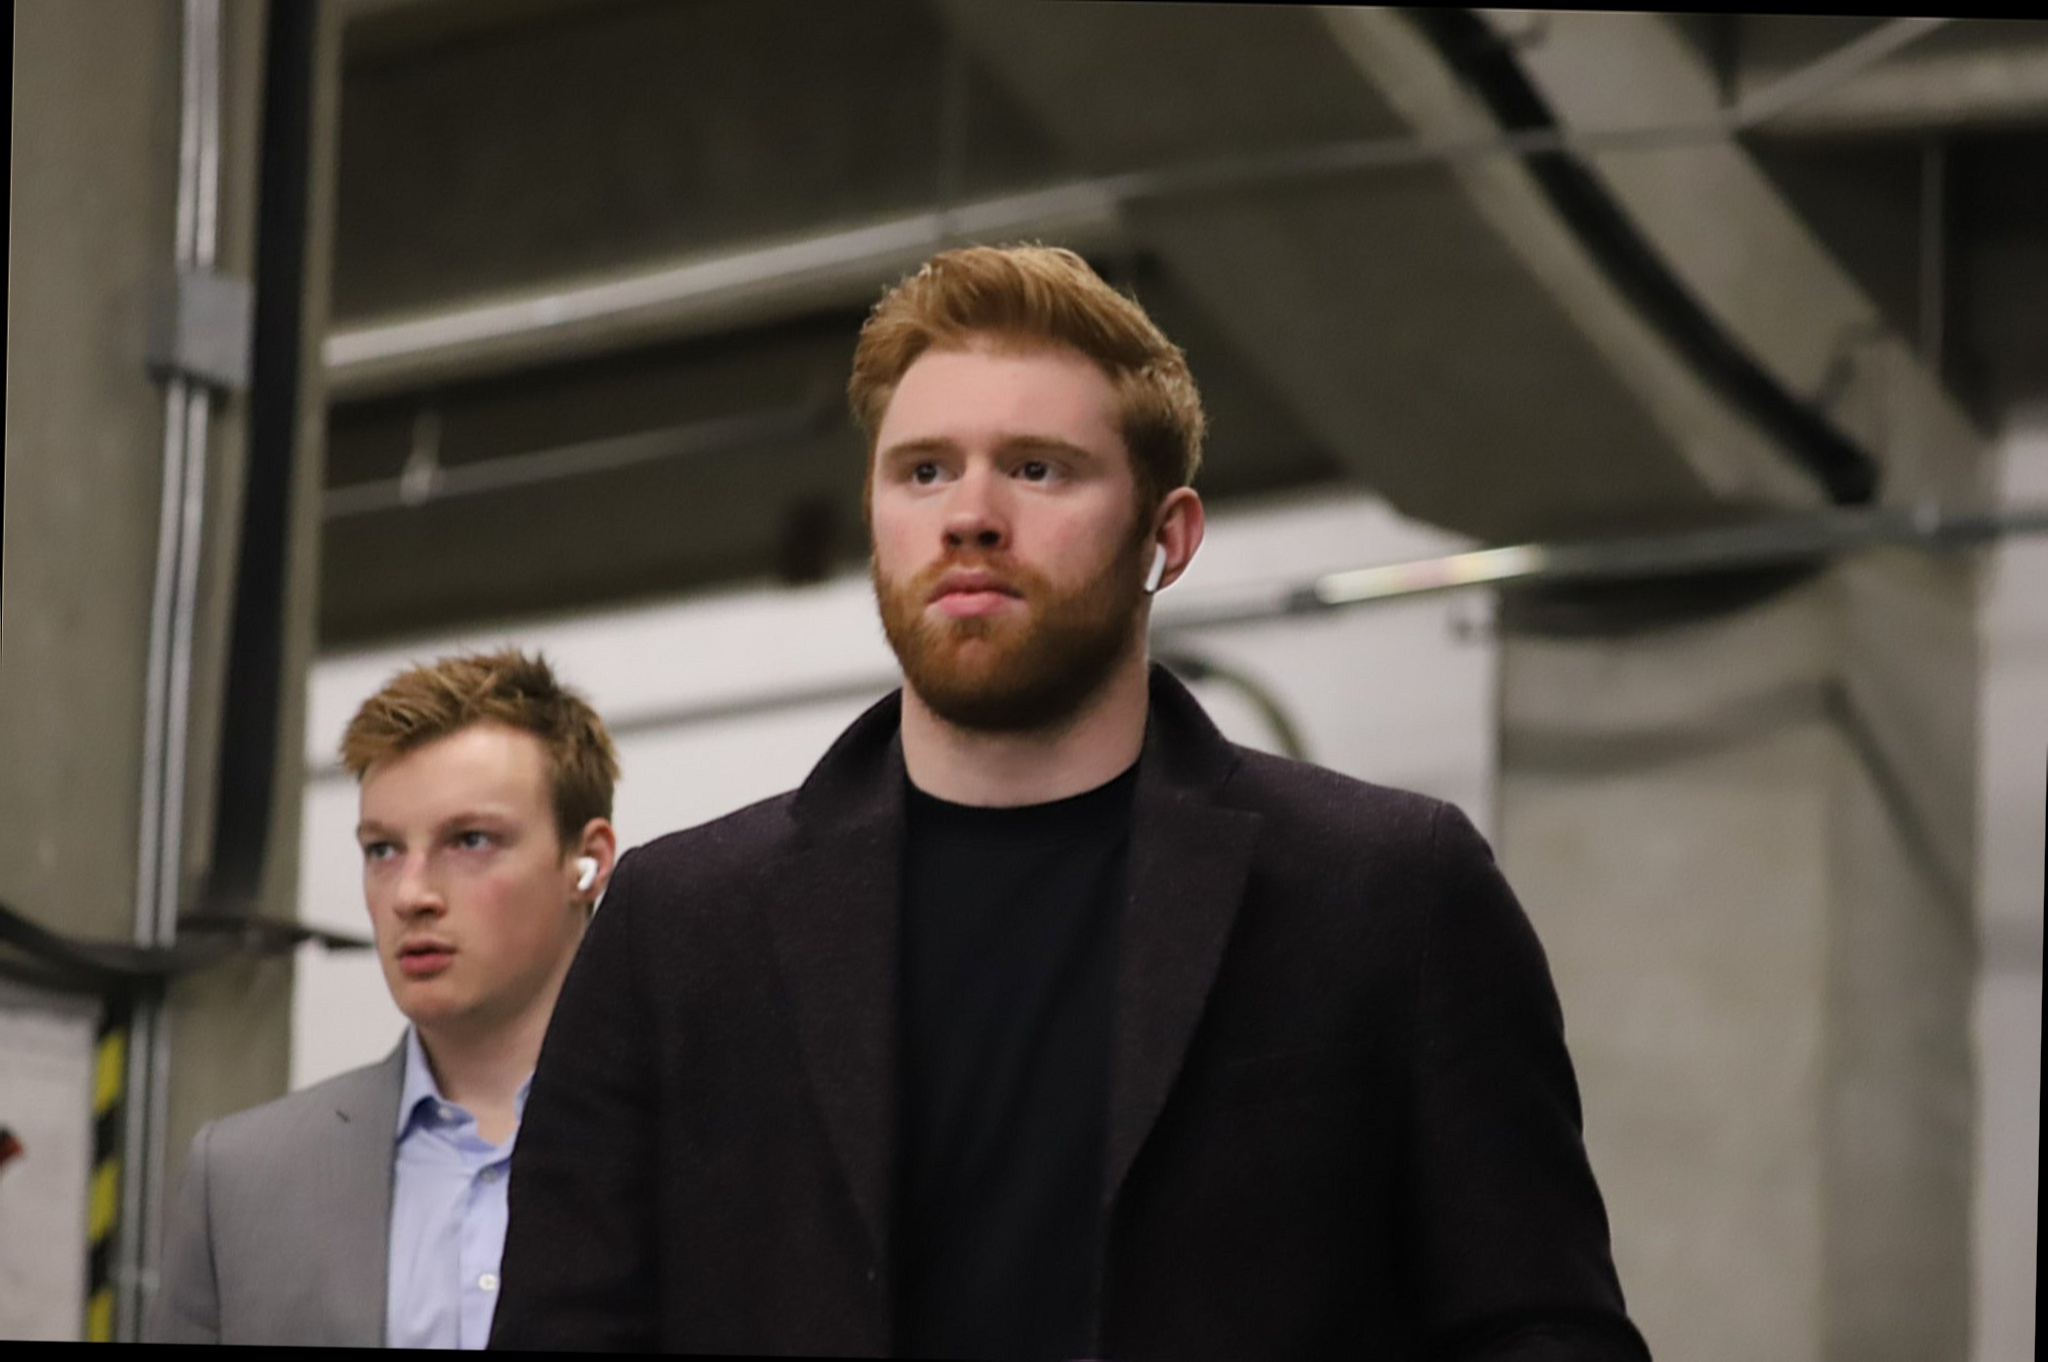earphone: (1143, 488, 1206, 597), (567, 815, 618, 906)
